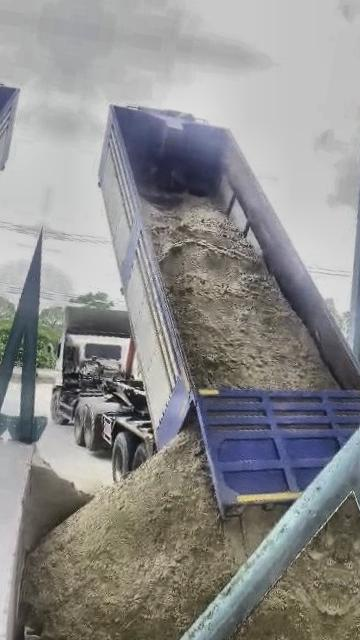sand: (23, 425, 282, 640), (145, 196, 338, 389), (204, 495, 352, 640), (23, 454, 91, 552)
